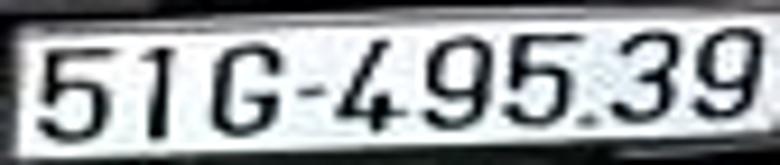-: (298, 86, 325, 101)
.: (579, 112, 595, 127)
1: (144, 48, 171, 140)
3: (618, 31, 676, 124)
4: (335, 40, 410, 131)
5: (506, 33, 569, 130), (44, 50, 109, 142)
9: (426, 34, 490, 134), (695, 27, 757, 118)
G: (209, 44, 280, 133)
